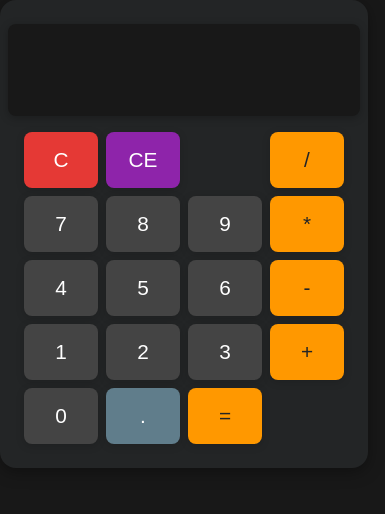
Test: Calculator Component › subtracts numbers correctly
The width and height of the screenshot is (385, 514).
Click the button "5": coordinates (143, 288) [106,260,180,316]
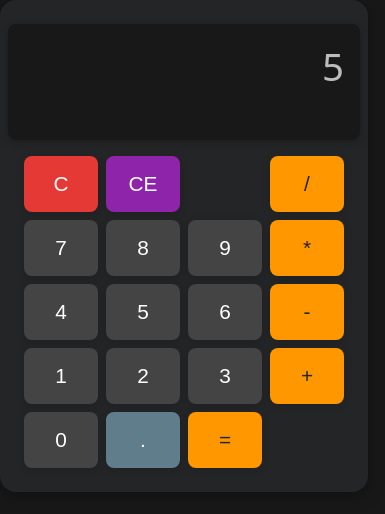
Click the button "-": coordinates (307, 312) [270,284,344,340]
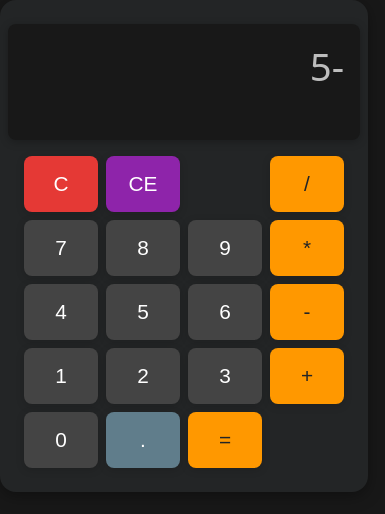
Click the button "2": coordinates (143, 376) [106,348,180,404]
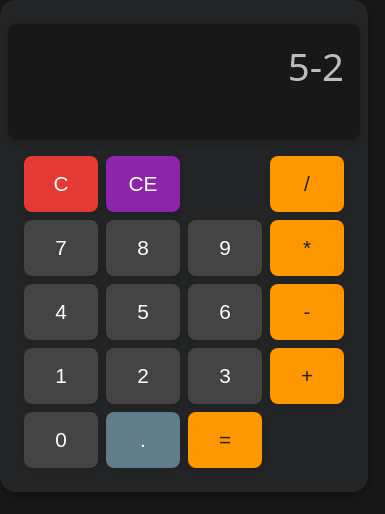
Click the button "=": coordinates (225, 440) [188,412,262,468]
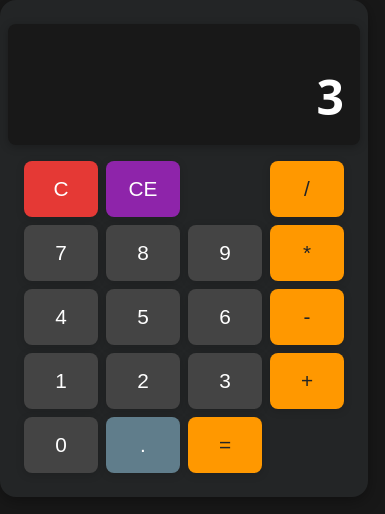
Check: the text with test id "result" reads "3", box [316,64,344,129]
